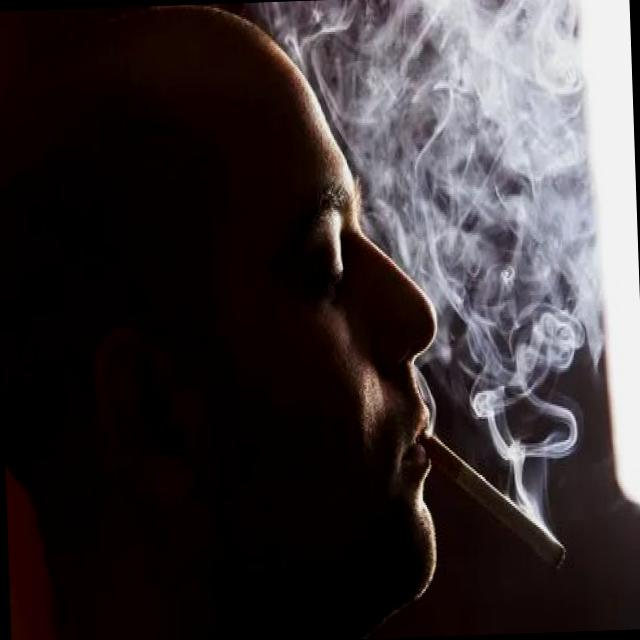cigarette: (418, 424, 568, 578)
